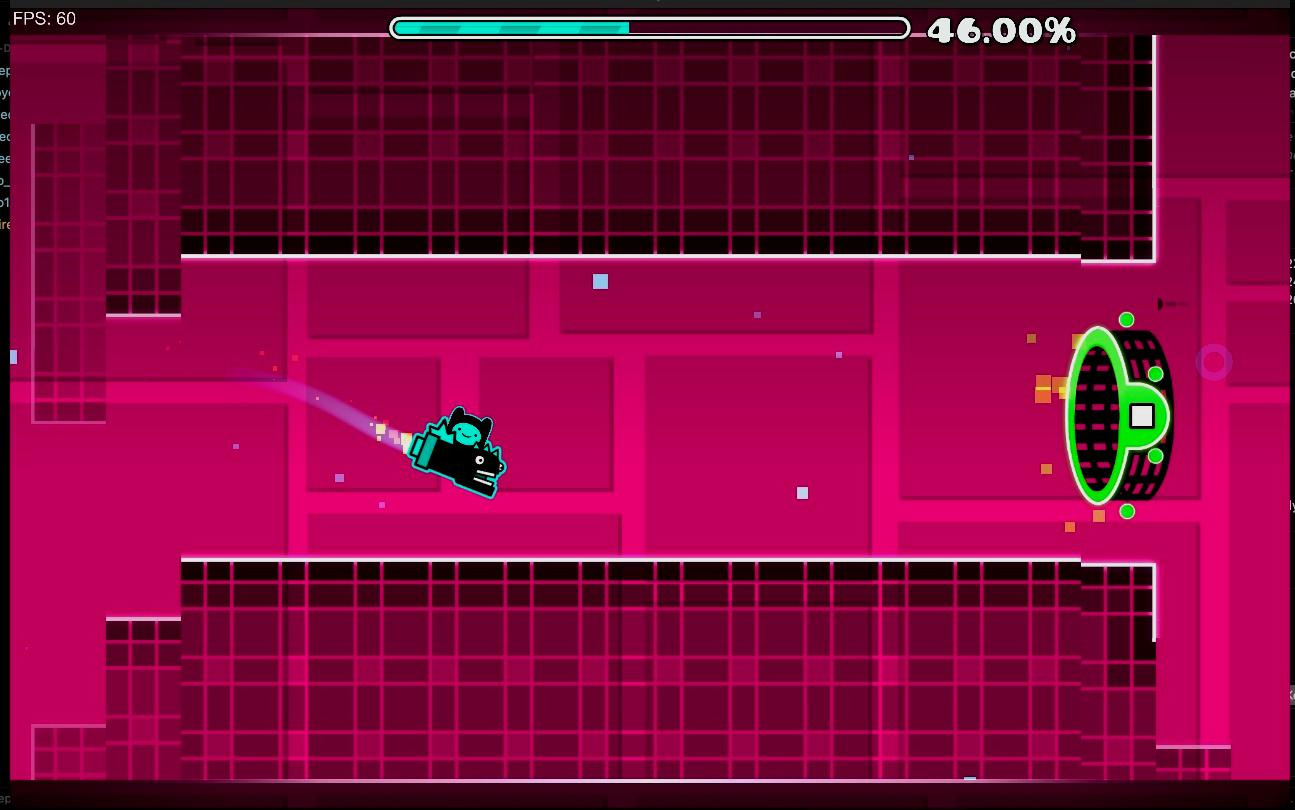player: (406, 407, 507, 498)
portal: (1065, 316, 1175, 505)
